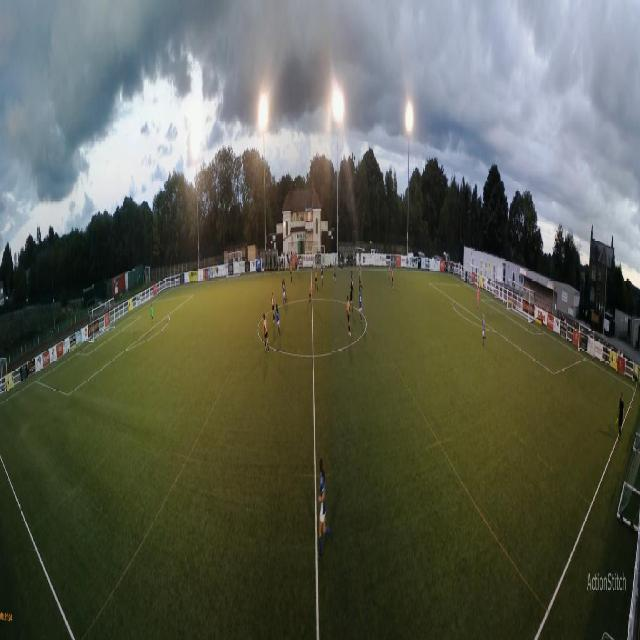player: (316, 455, 332, 562), (263, 313, 270, 354), (346, 294, 352, 339), (270, 291, 276, 325), (275, 304, 281, 336), (482, 312, 487, 346), (358, 287, 362, 324), (282, 280, 287, 305), (350, 281, 354, 312), (358, 266, 363, 290), (308, 279, 312, 308), (150, 302, 154, 330), (283, 278, 287, 304), (333, 257, 337, 281), (350, 270, 354, 292), (391, 265, 394, 290), (315, 267, 318, 292), (321, 263, 324, 287), (477, 286, 480, 308), (388, 262, 391, 283), (296, 258, 299, 279), (290, 261, 292, 283)
